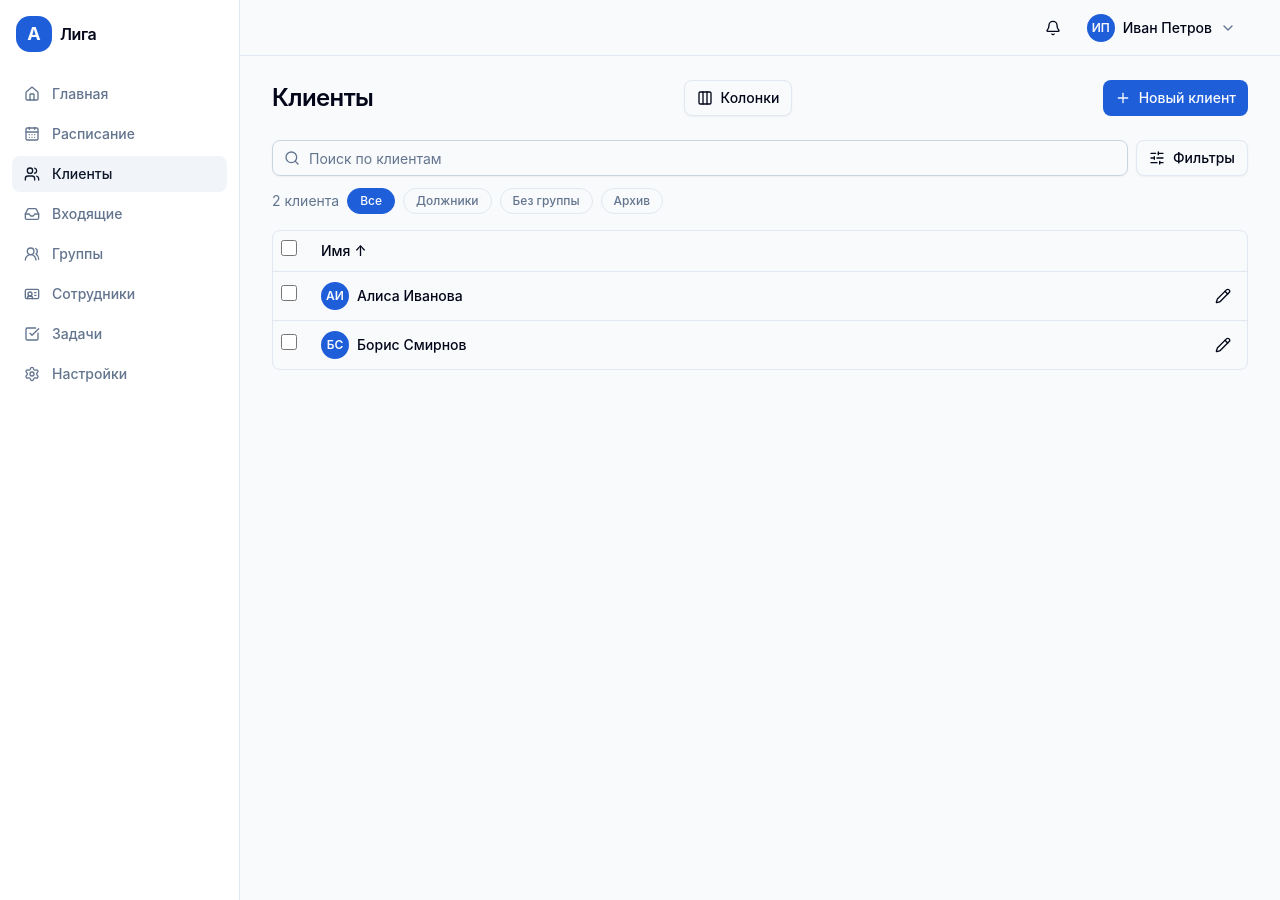
список клиентов › поиск фильтрует список и сохраняется в адресе
expect the table is shown: met, box [273,231,1247,368]
Type "алис" into the search field labelled "Поиск по клиентам". click: (700, 158)
box: [272,140,1128,176]
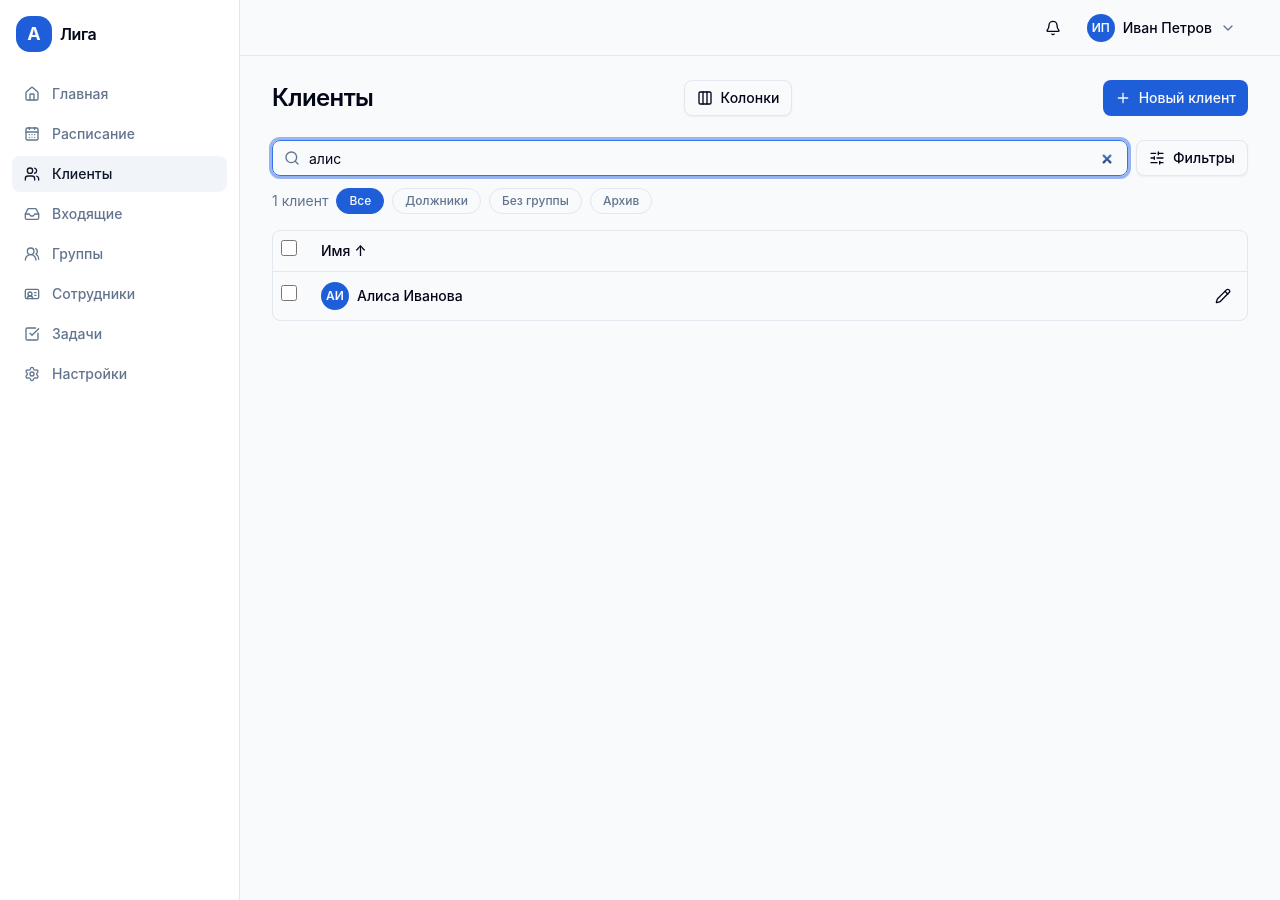
expect the text "1 клиент" is shown: met, box [272,191,328,211]
expect the link "Борис Смирнов" is gone: met
